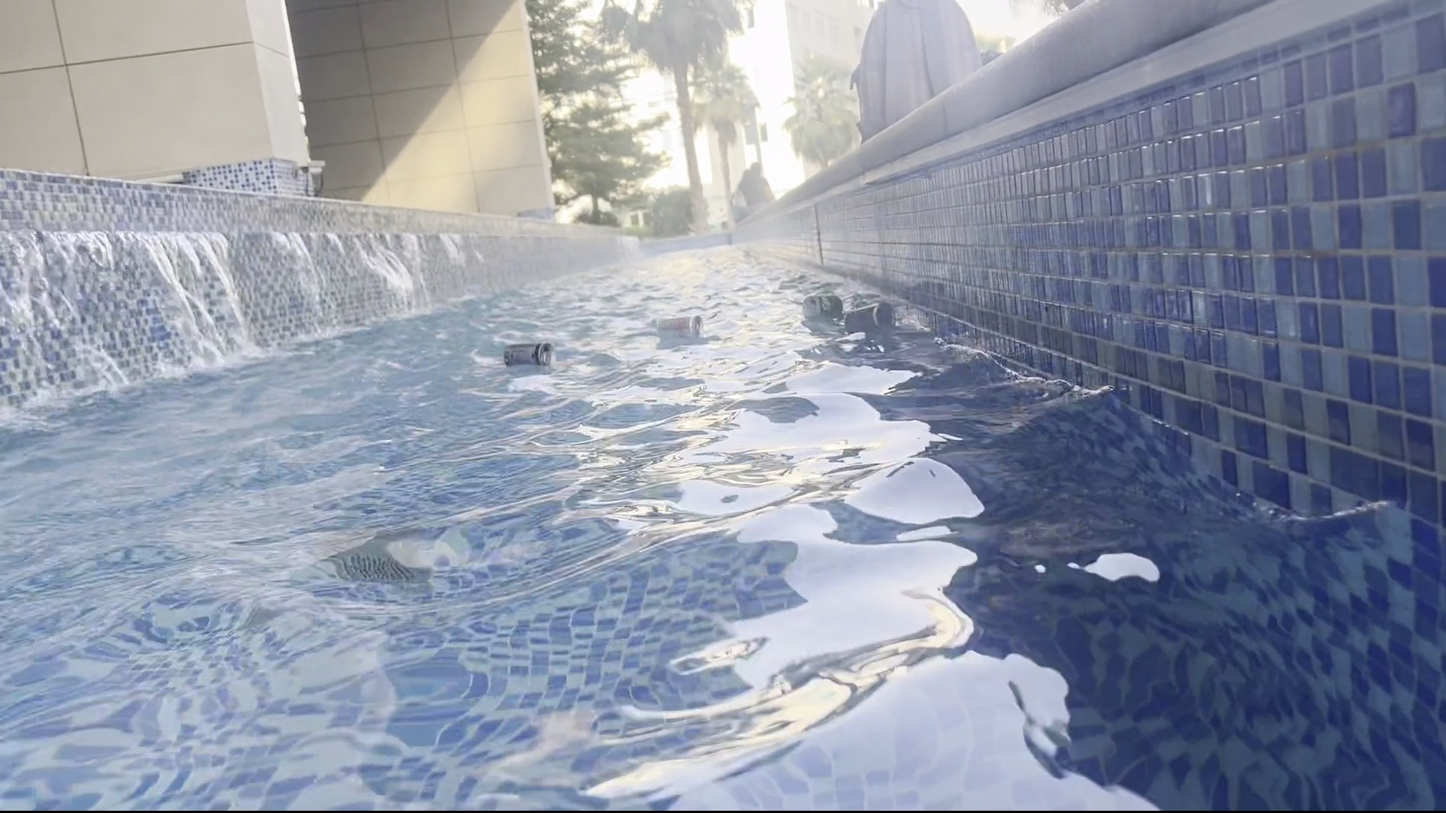debris: (830, 296, 897, 333), (499, 337, 558, 370), (646, 310, 705, 340), (797, 289, 847, 321)
